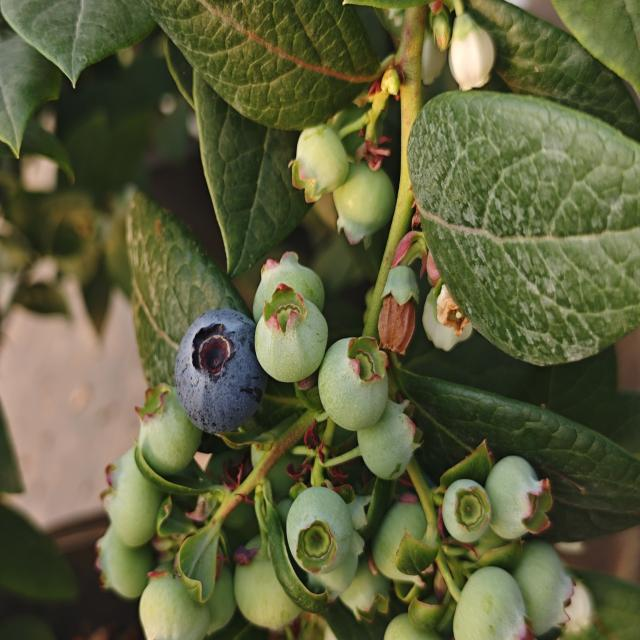ripe: (172, 305, 268, 437)
